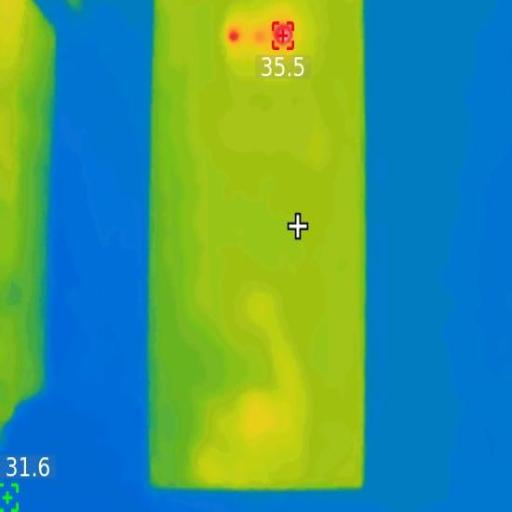hotspot: (273, 25, 297, 49), (229, 31, 240, 42)
